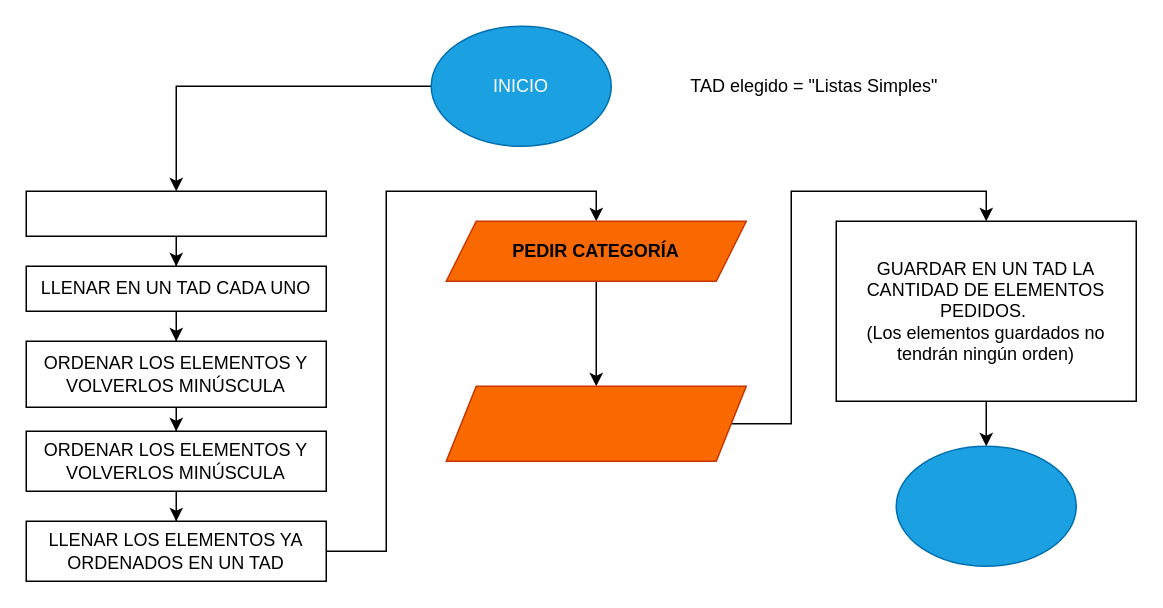
Image size: 1163x608. Some labels were removed from this diagram. Each missing label, with the centre of its shape:
"ABRIR LOS 4 ARCHIVOS" goes at (175,213).
"FIN" goes at (985,505).
"PEDIR CANTIDAD DE ELEMENTOS A IMPRIMIR" goes at (595,423).
